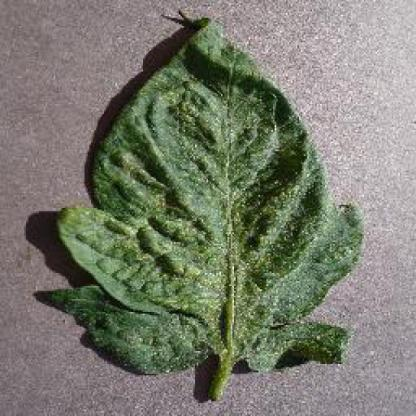Tomato_Spider_Mites: (50, 13, 362, 374)
